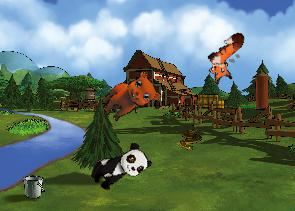bear: (96, 64, 166, 133)
fox: (197, 29, 259, 88)
panda: (86, 139, 153, 196)
